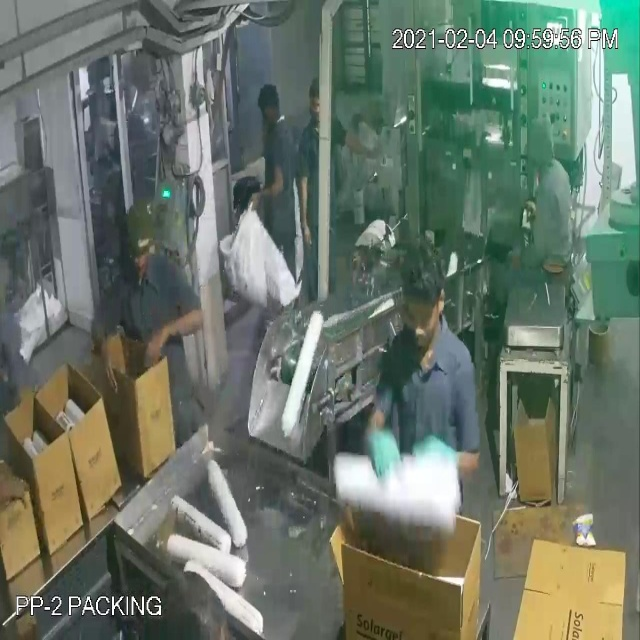Guantes: (408, 426, 488, 492), (365, 415, 401, 482)
Sin_guantes: (142, 292, 209, 367), (90, 303, 127, 399), (243, 157, 288, 221), (339, 109, 384, 167), (292, 150, 313, 253), (0, 464, 34, 522)
